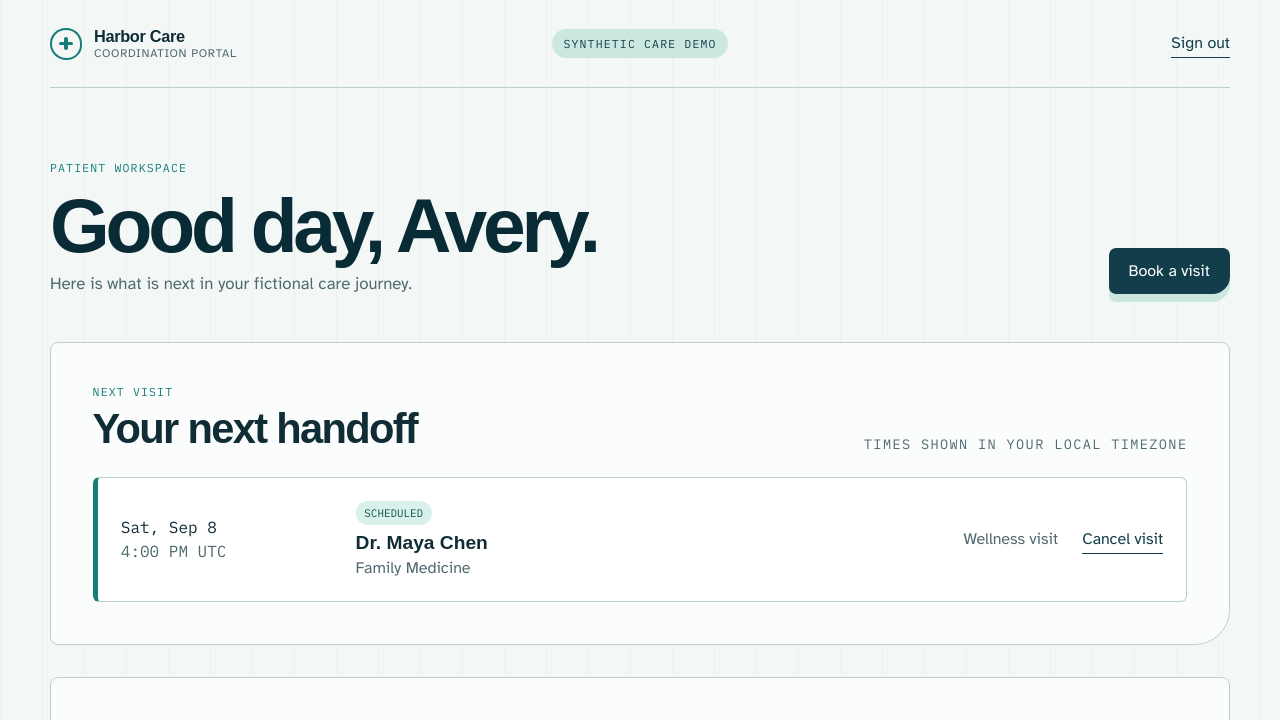
Test: App › closes a stale cancellation panel and refreshes after a conflict
Step 1. Click the button "Cancel visit" → click(1123, 539), box x1=1082 y1=525 x2=1163 y2=554
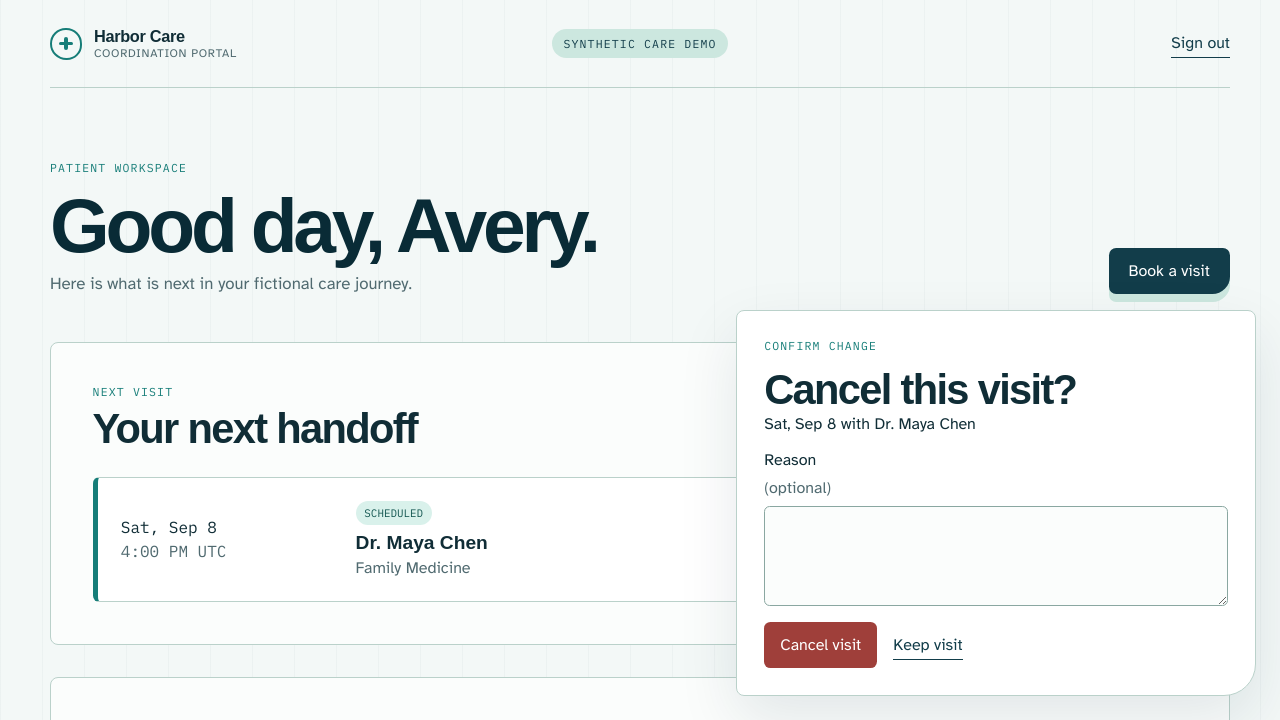
Step 2. Click the button "Cancel visit" → click(821, 645), box x1=764 y1=622 x2=877 y2=668
(page scrolled)
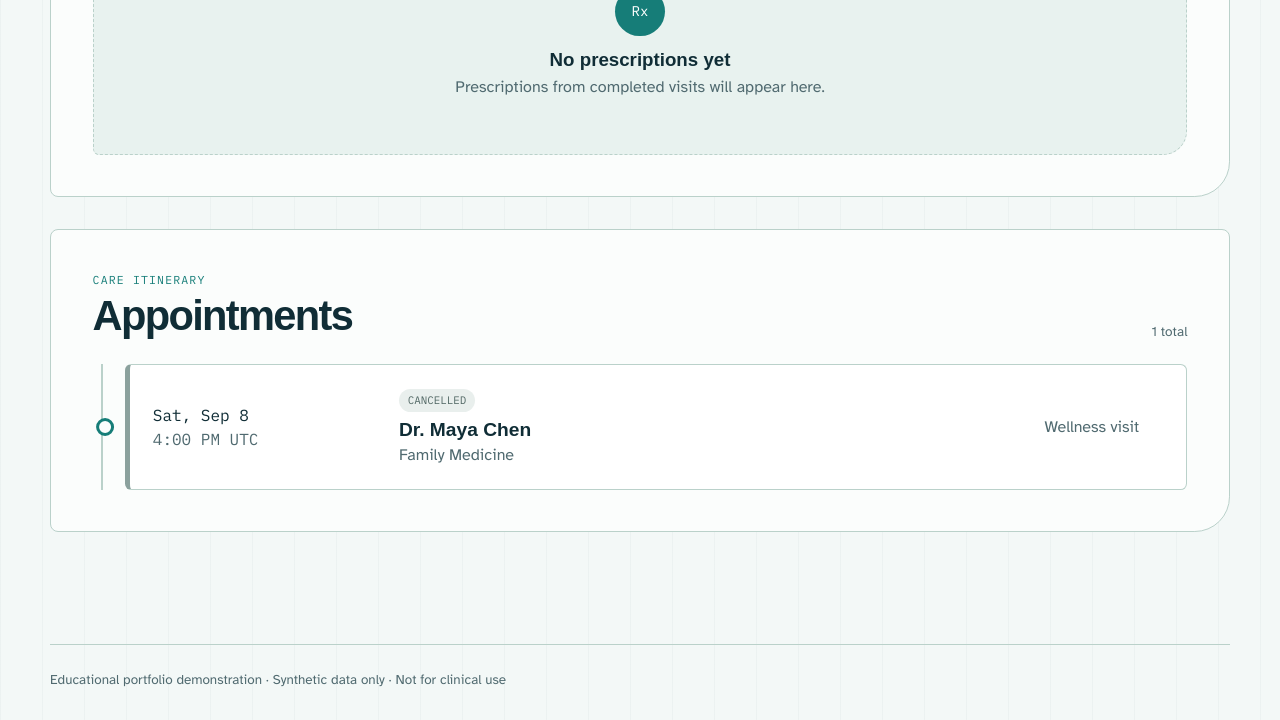
Check: the text "Cancelled" is shown, box x1=399 y1=389 x2=475 y2=412
Check: the heading "Cancel this visit?" is gone
Check: the button "Cancel visit" is gone
